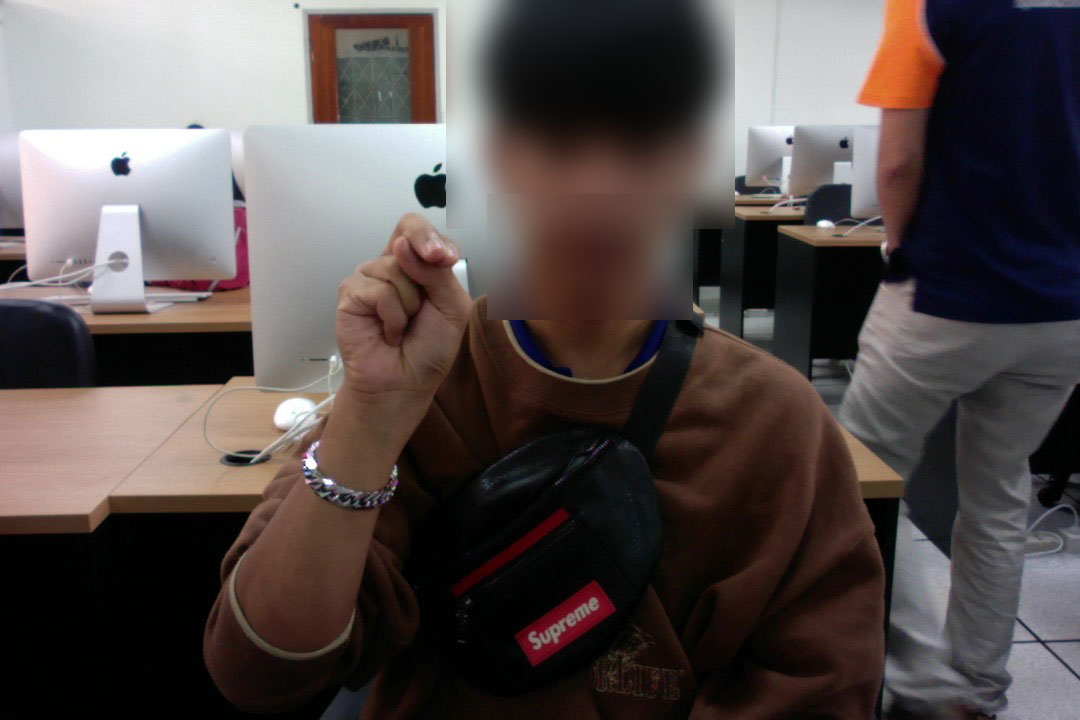tor: (330, 211, 477, 414)
